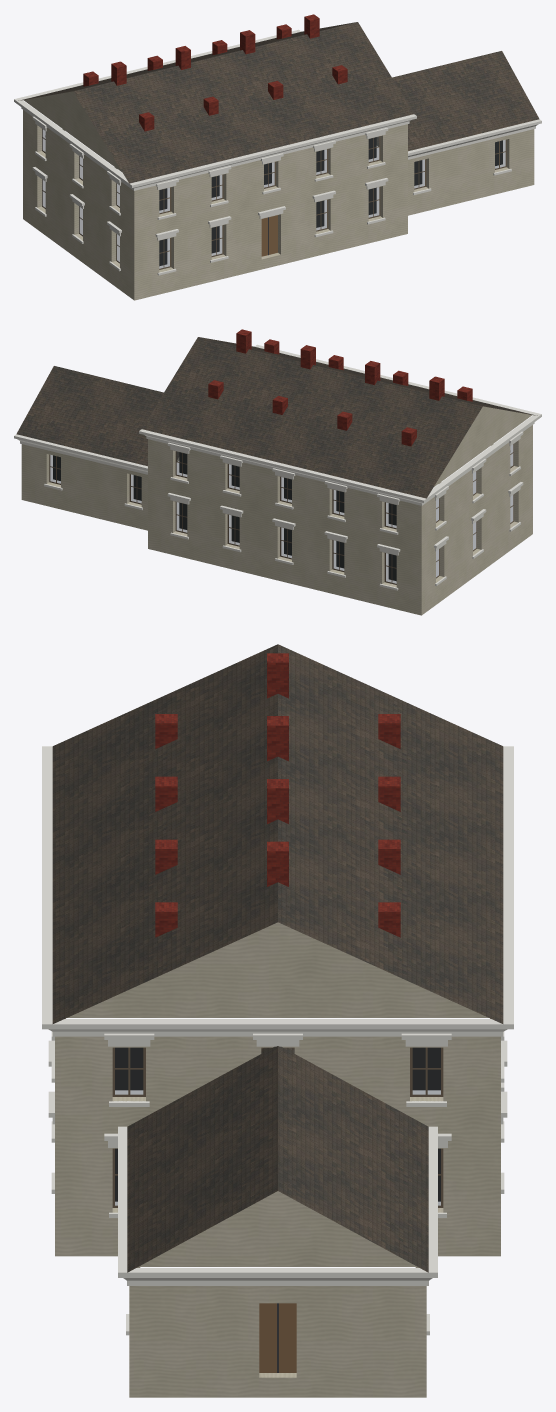
Rendered from huntoon_house_1871__house_1838_1871.glb.
3 views of the same model, one above another, from view 1: azimuth 30°, elevation 25°; view 2: azimuth 150°, elevation 25°; view 3: azimuth 270°, elevation 25° (orthographic). The views are drawn at different scales.
Visible parts, largest first — view 1: huntoon_house_1871__house_1838_1871; view 2: huntoon_house_1871__house_1838_1871; view 3: huntoon_house_1871__house_1838_1871.
Part boxes in pixels (x1,y1,x2,y2): huntoon_house_1871__house_1838_1871: [14, 14, 541, 300]; huntoon_house_1871__house_1838_1871: [14, 329, 541, 615]; huntoon_house_1871__house_1838_1871: [42, 644, 513, 1397].
Bounding box in the file's own units: 26.65 × 11 × 12.7.
9 materials, 3 textured.
